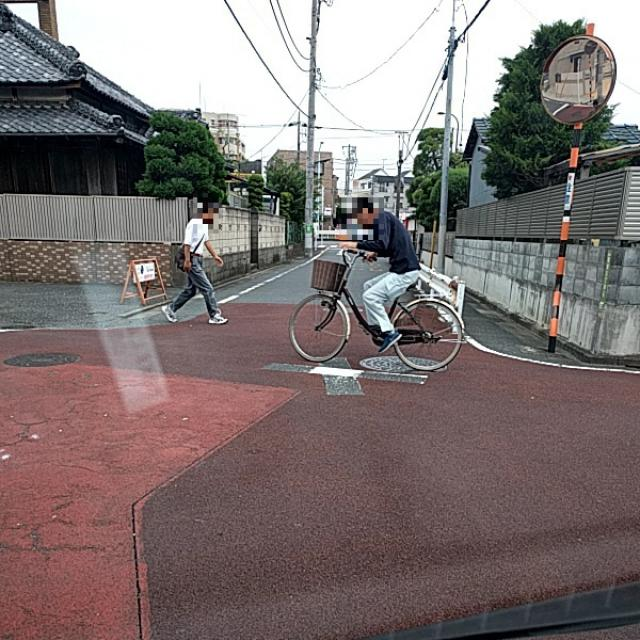pothole: (74, 472, 180, 570)
